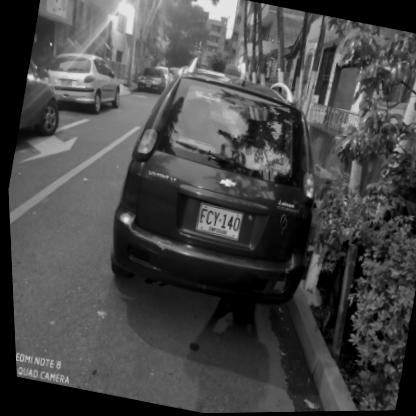placa: (187, 198, 246, 245)
